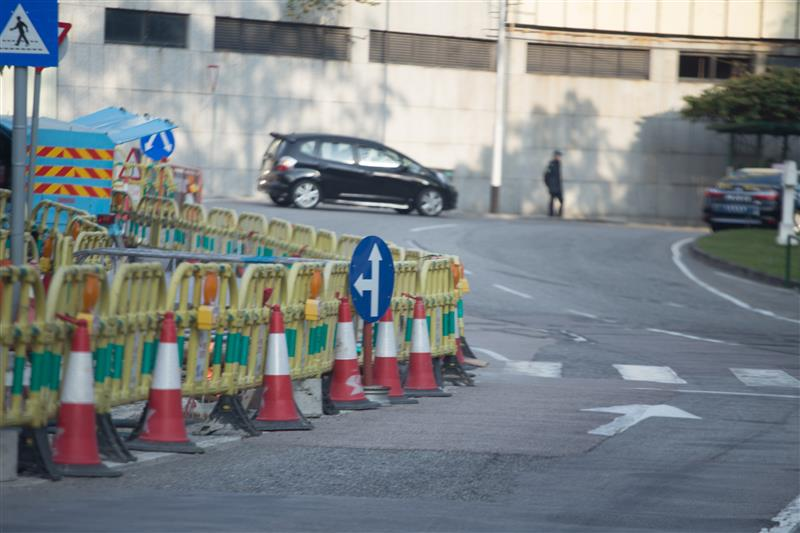keepLeftRight: (140, 123, 176, 161)
pedestrianCrossing: (1, 1, 60, 69)
straightOrLeftTurnOnly: (348, 235, 395, 323)
